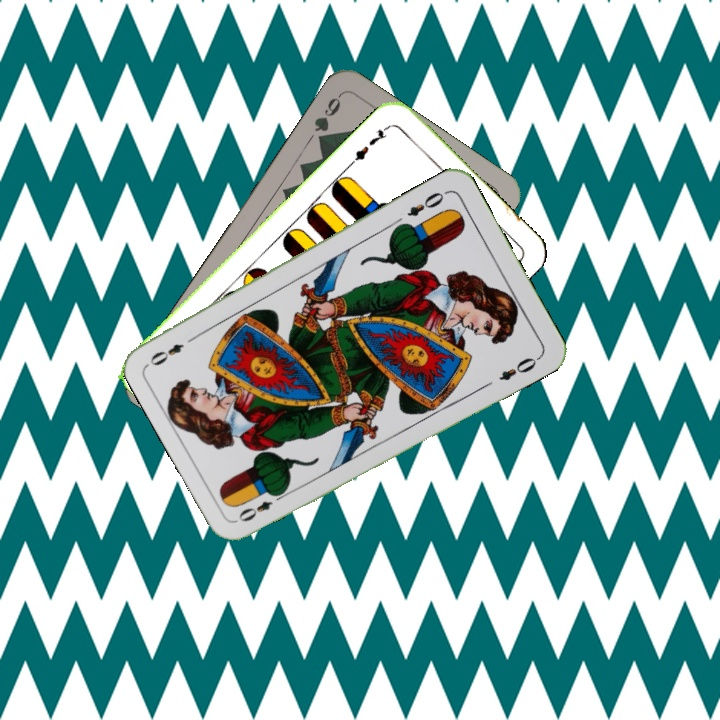E7: (346, 121, 393, 167)
EO: (234, 488, 288, 525), (403, 186, 450, 219)
G9: (310, 90, 344, 148)
